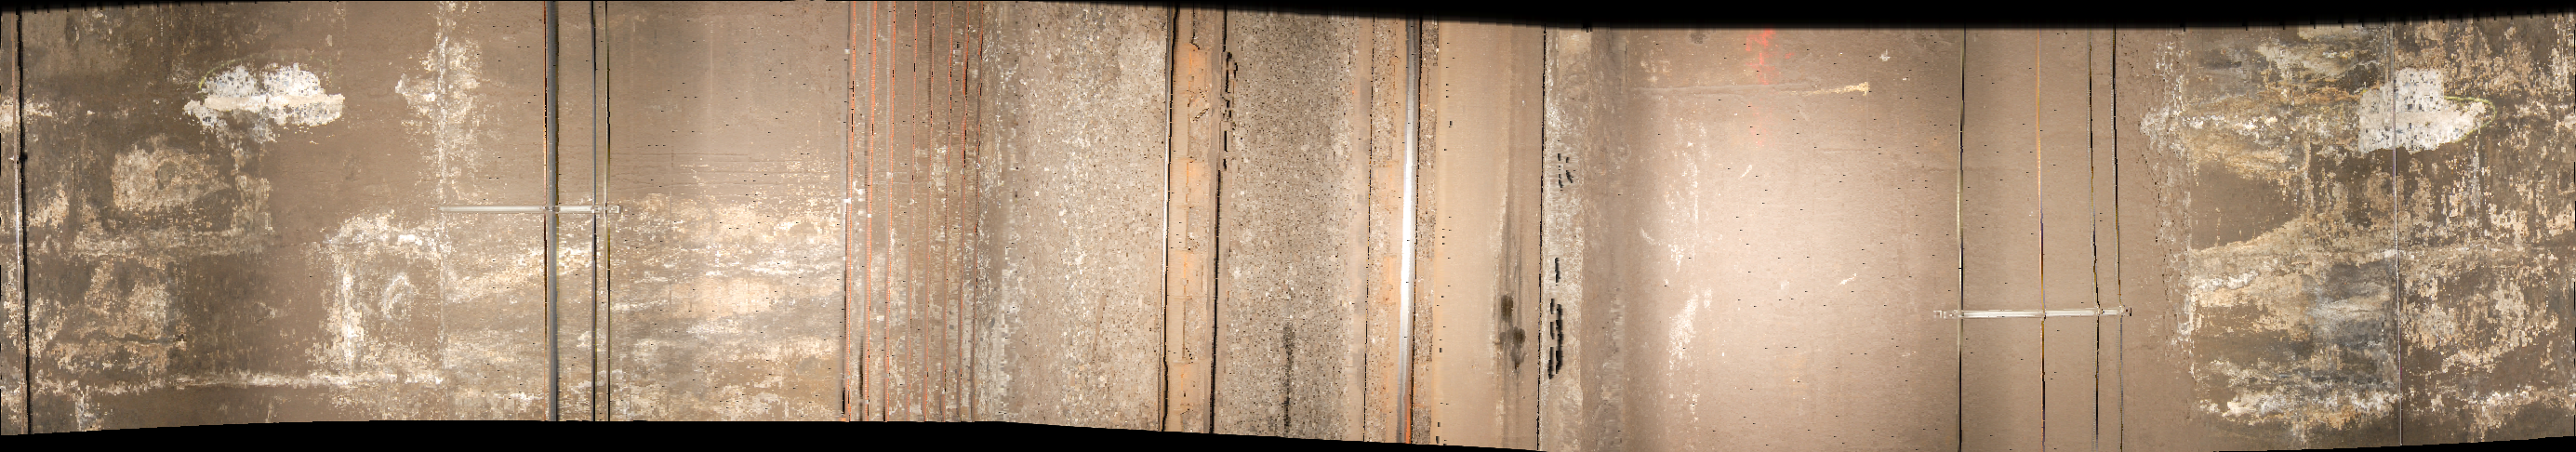pipes: (836, 2, 1009, 417), (534, 2, 618, 440), (2081, 26, 2139, 452), (1947, 20, 1976, 452), (2031, 26, 2055, 452)
tracks: (1163, 8, 1548, 452)
